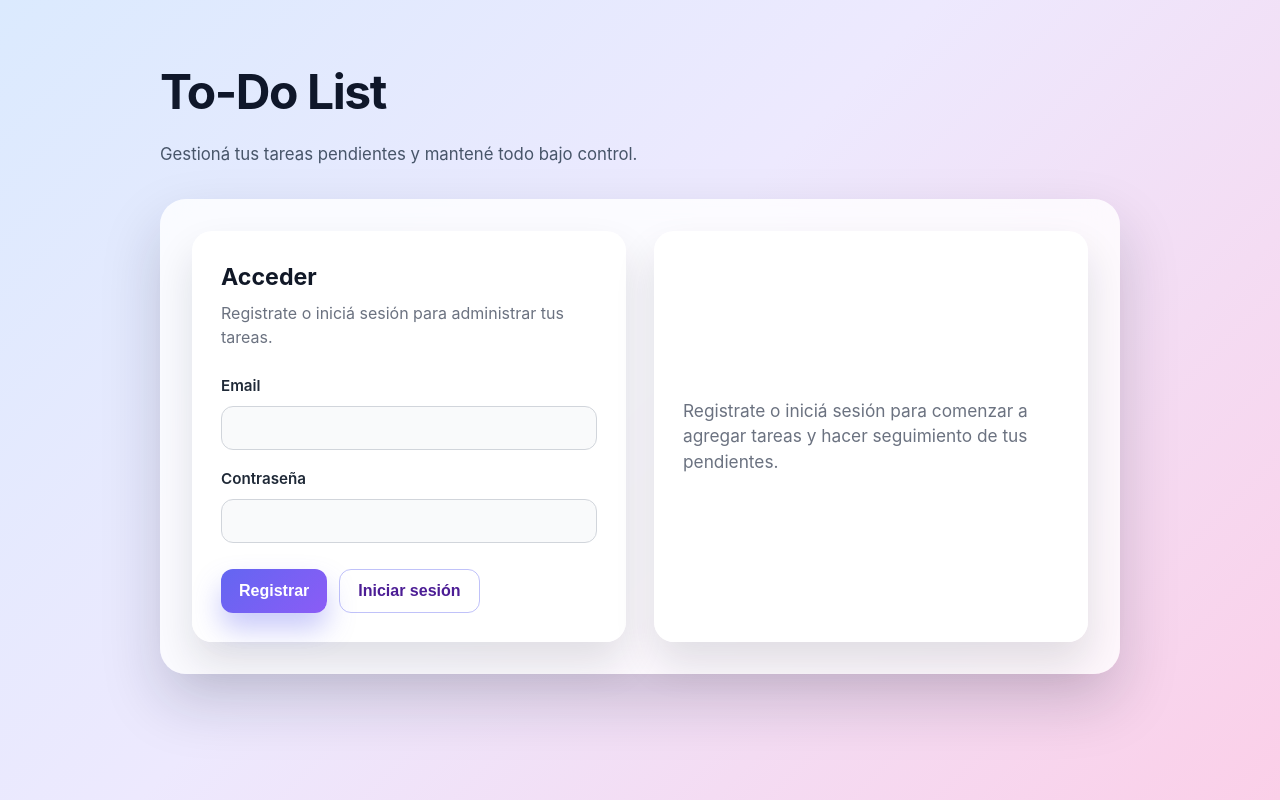
Test: Todos – flujos principales › Error: muestra feedback cuando la API falla
The image size is (1280, 800).
Type "cypress@example.com" into the field named "Email".
click(409, 428); type("cypress@example.com")  # box [221, 406, 597, 450]
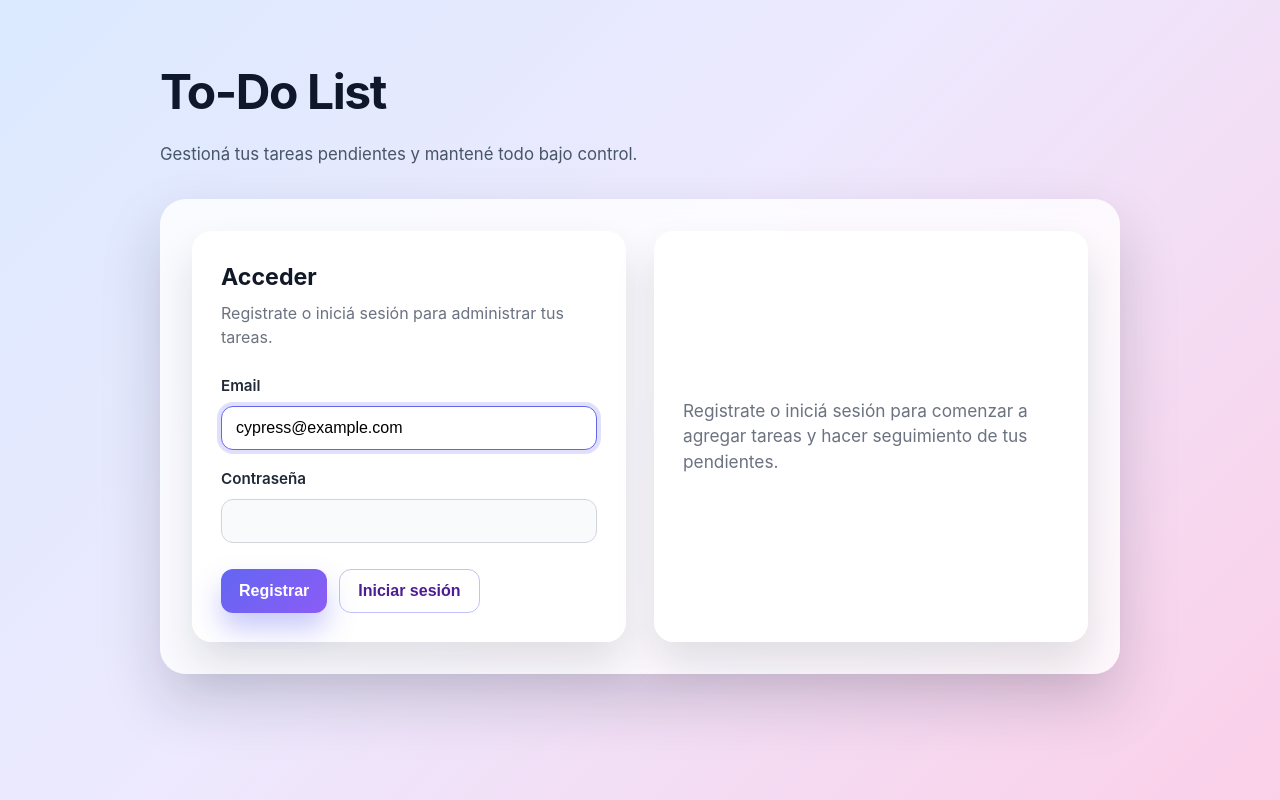
Type "superSecret123" into the password field named "Contraseña".
click(409, 521); type("superSecret123")  # box [221, 499, 597, 543]
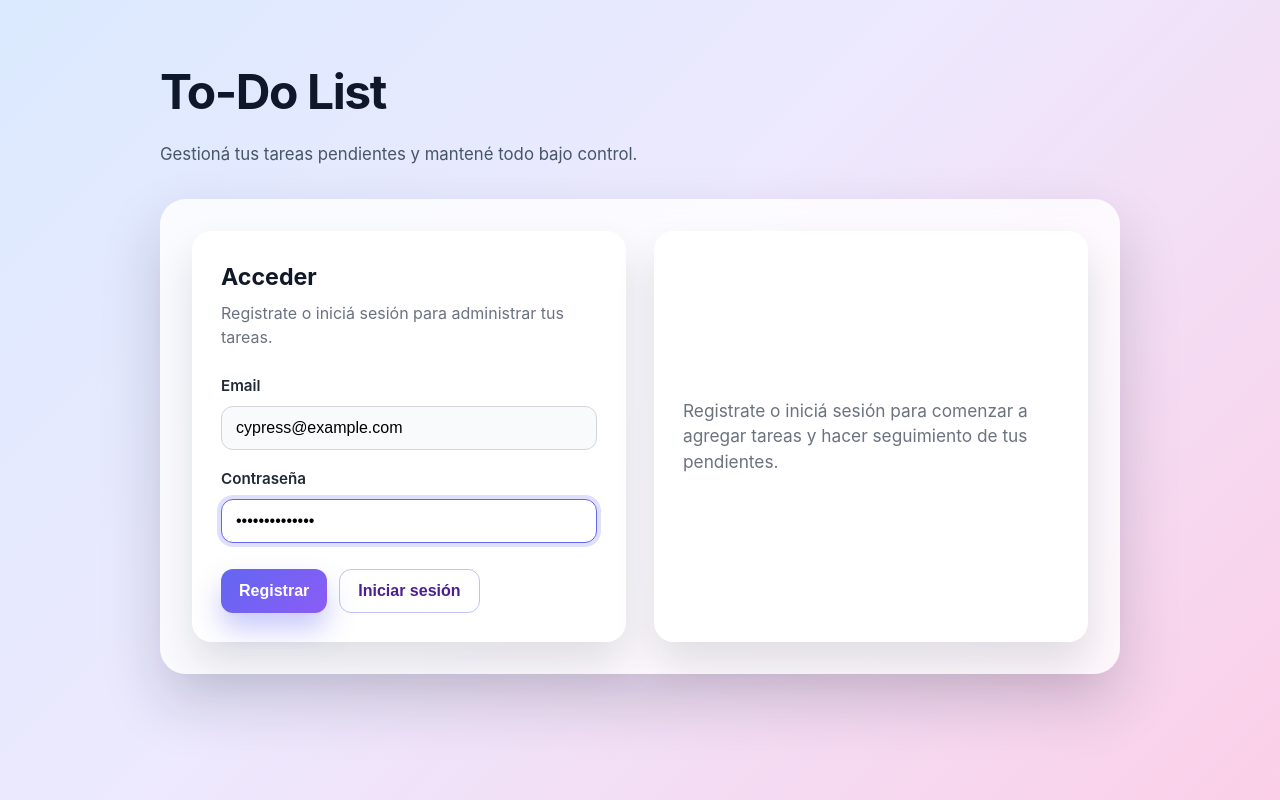
Click the button "Iniciar sesión".
click(409, 591)  # box [339, 569, 479, 613]
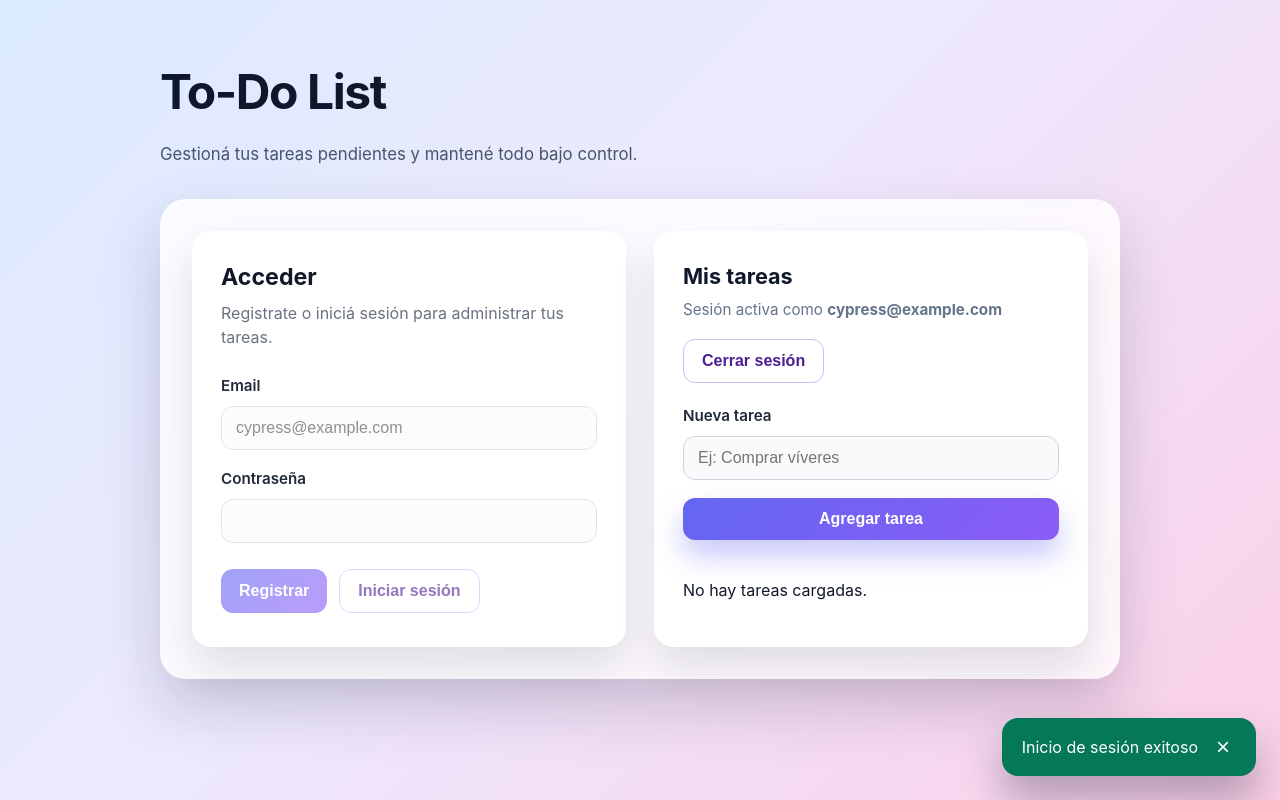
Type "Falla controlada" into the field with test id "todo-input".
click(871, 458); type("Falla controlada")  # box [683, 436, 1059, 480]
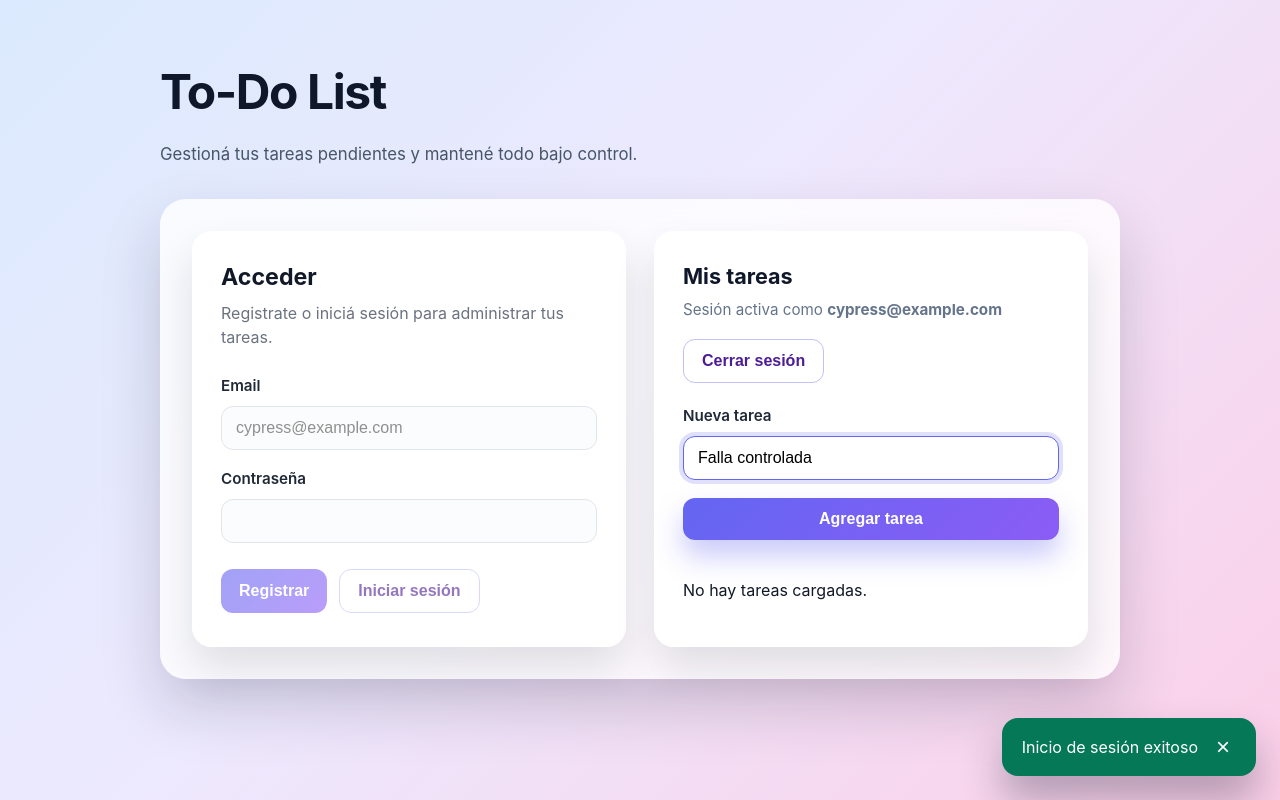
Click the button with test id "add-btn".
click(871, 519)  # box [683, 498, 1059, 540]
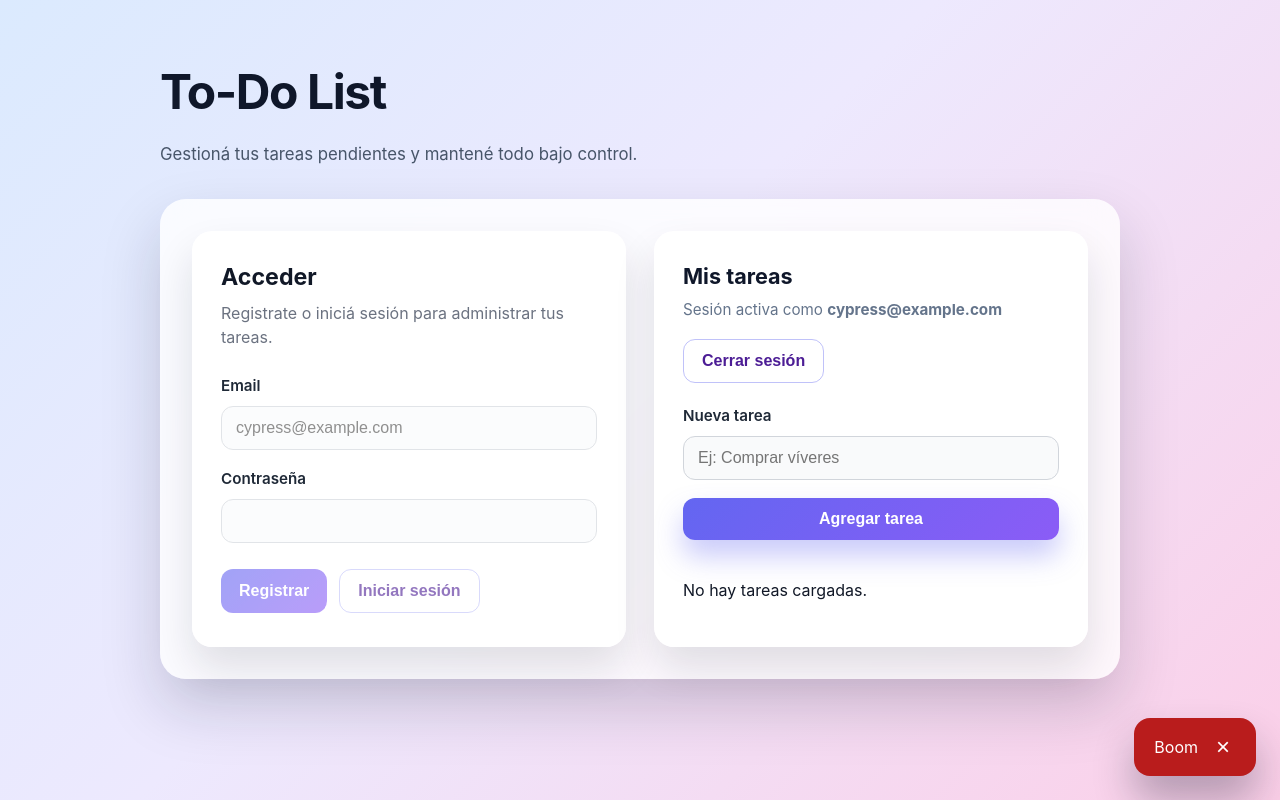
Check: the text "Boom" is shown, box [1154, 735, 1198, 759]
